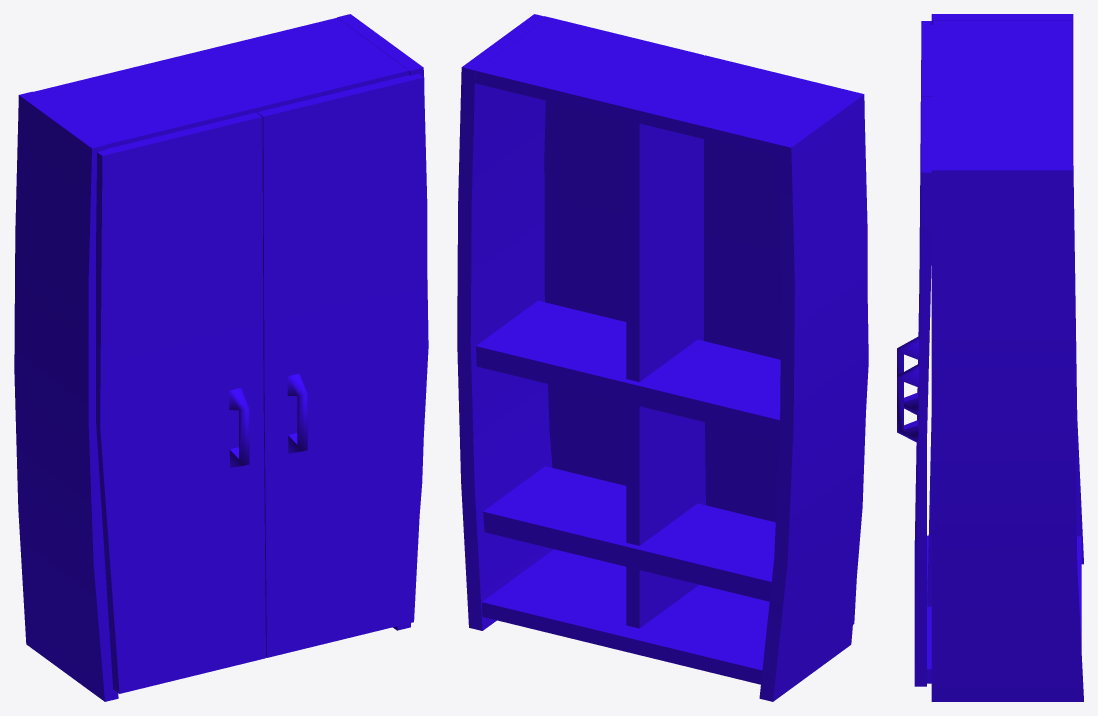
The model's file is office_pack_closet_large_1_meshCollider.fbx.
3 views of the same model, side by side, from view 1: azimuth 30°, elevation 25°; view 2: azimuth 150°, elevation 25°; view 3: azimuth 270°, elevation 25° (orthographic). The views are drawn at different scales.
Visible parts, largest first — view 1: office_pack_closet_large_doorRight_1_meshCollider, office_pack_closet_large_doorLeft_1_meshCollider, office_pack_closet_large_1_meshCollider; view 2: office_pack_closet_large_1_meshCollider, office_pack_closet_large_doorLeft_1_meshCollider, office_pack_closet_large_doorRight_1_meshCollider; view 3: office_pack_closet_large_1_meshCollider, office_pack_closet_large_doorLeft_1_meshCollider, office_pack_closet_large_doorRight_1_meshCollider.
Boxes of the visible parts, left/top/right/bottom form: office_pack_closet_large_doorRight_1_meshCollider: left=96, top=112, right=265, bottom=693; office_pack_closet_large_doorLeft_1_meshCollider: left=257, top=73, right=428, bottom=657; office_pack_closet_large_1_meshCollider: left=14, top=14, right=427, bottom=701; office_pack_closet_large_1_meshCollider: left=457, top=14, right=867, bottom=701; office_pack_closet_large_doorLeft_1_meshCollider: left=544, top=16, right=704, bottom=485; office_pack_closet_large_doorRight_1_meshCollider: left=704, top=55, right=868, bottom=624; office_pack_closet_large_1_meshCollider: left=927, top=14, right=1083, bottom=701; office_pack_closet_large_doorLeft_1_meshCollider: left=897, top=97, right=933, bottom=686; office_pack_closet_large_doorRight_1_meshCollider: left=897, top=21, right=933, bottom=609.
Bounding box in the file's own units: 79.91 × 125 × 39.47.
